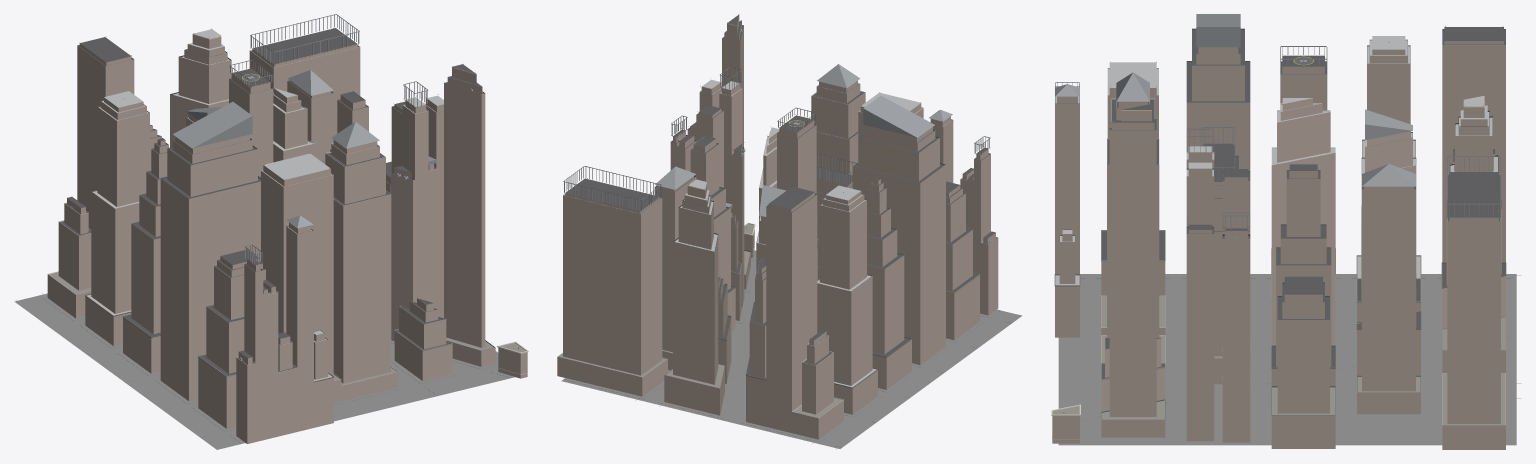
3 views of the same model, side by side, from view 1: azimuth 30°, elevation 25°; view 2: azimuth 150°, elevation 25°; view 3: azimuth 270°, elevation 25° (orthographic). The views are drawn at different scales.
Visible parts, largest first — view 1: t14_facade, t14_roof, t14_ground, t14_detail; view 2: t14_facade, t14_roof, t14_ground, t14_detail; view 3: t14_facade, t14_ground, t14_roof, t14_detail.
Boxes of the visible parts, x1,y1,x2,y2 form: t14_facade: [47, 35, 527, 443]; t14_roof: [49, 14, 525, 385]; t14_ground: [14, 293, 514, 449]; t14_detail: [48, 45, 528, 385]; t14_facade: [557, 16, 998, 439]; t14_roof: [559, 14, 996, 417]; t14_ground: [561, 250, 1021, 449]; t14_detail: [558, 25, 997, 418]; t14_facade: [1052, 41, 1505, 449]; t14_ground: [1058, 274, 1521, 445]; t14_roof: [1052, 14, 1505, 425]; t14_detail: [1051, 28, 1506, 439].
Size of the model in its own units: 391 by 335 by 441.
